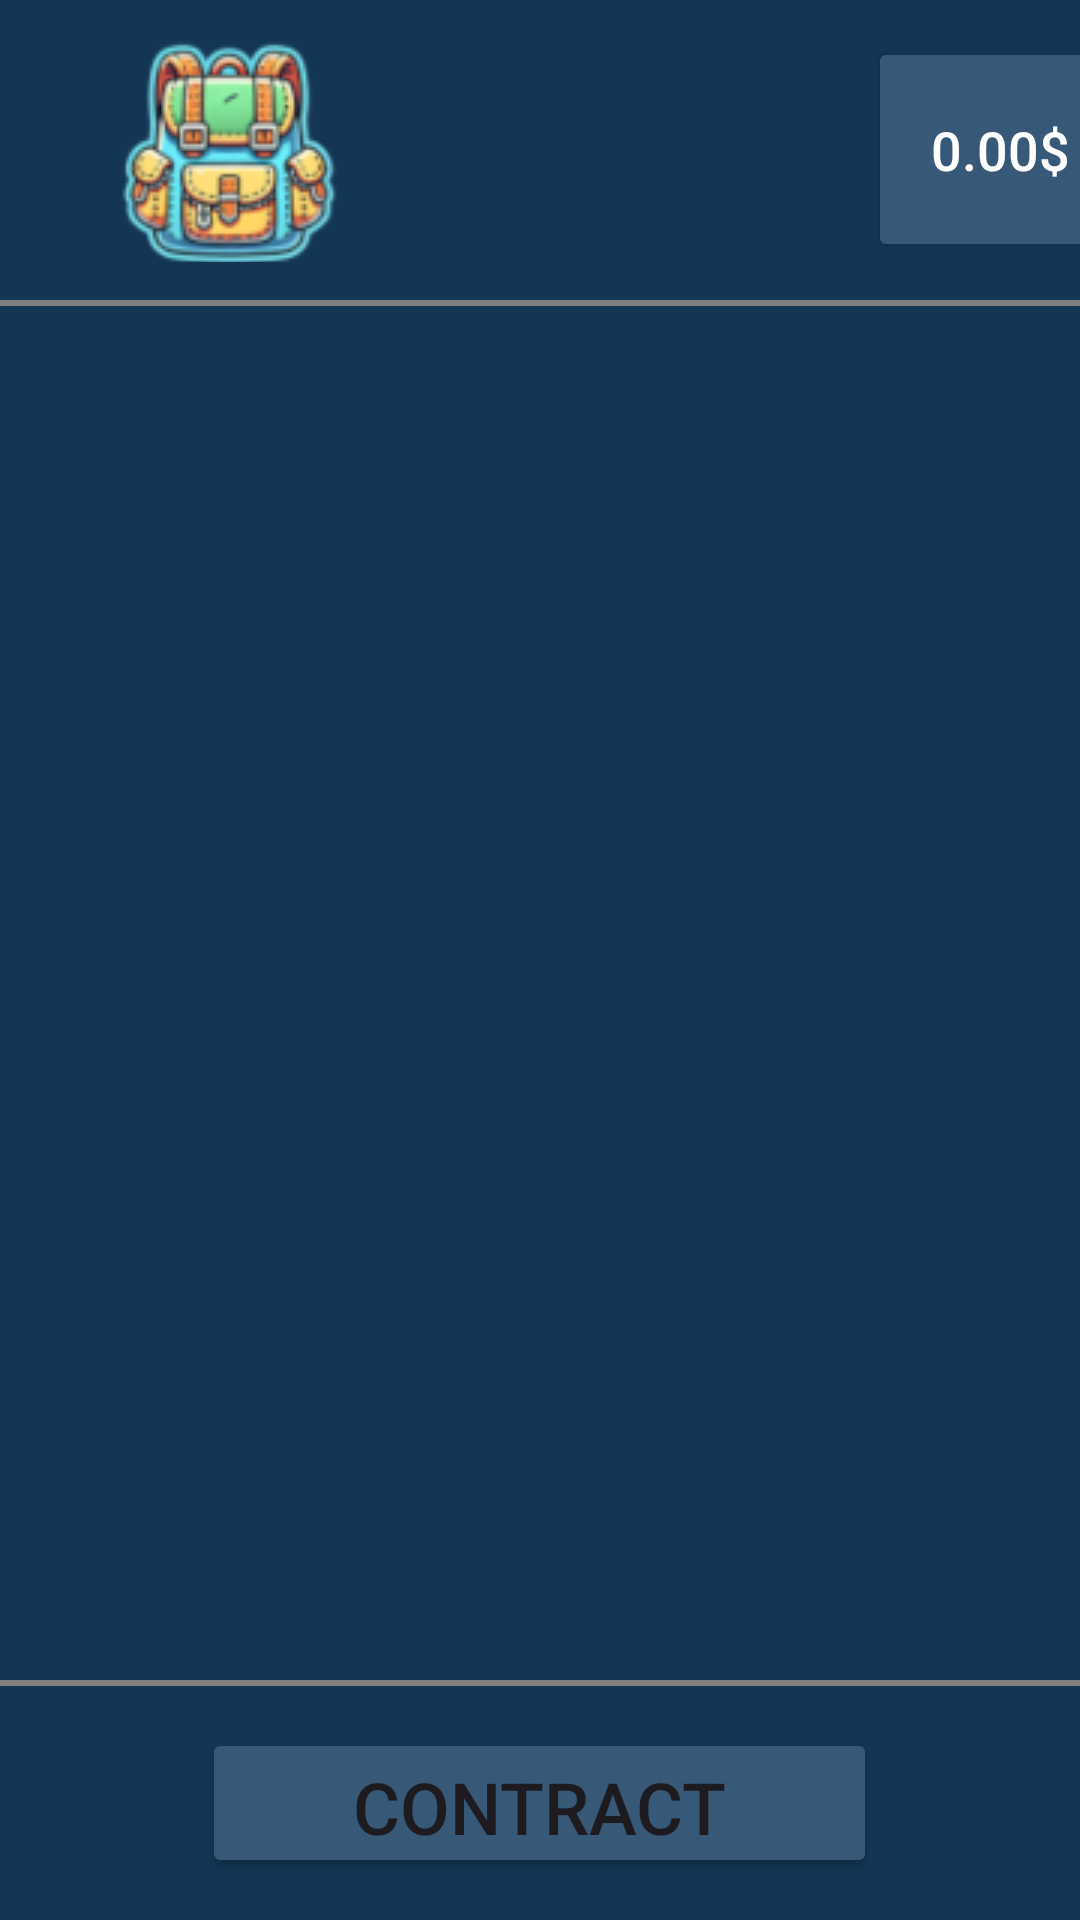

Named icons in this screenshot (1080px x 1920px) and their bounding boxes, box(x1, y1, x2, y2):
eqicon: box(123, 44, 336, 262)
